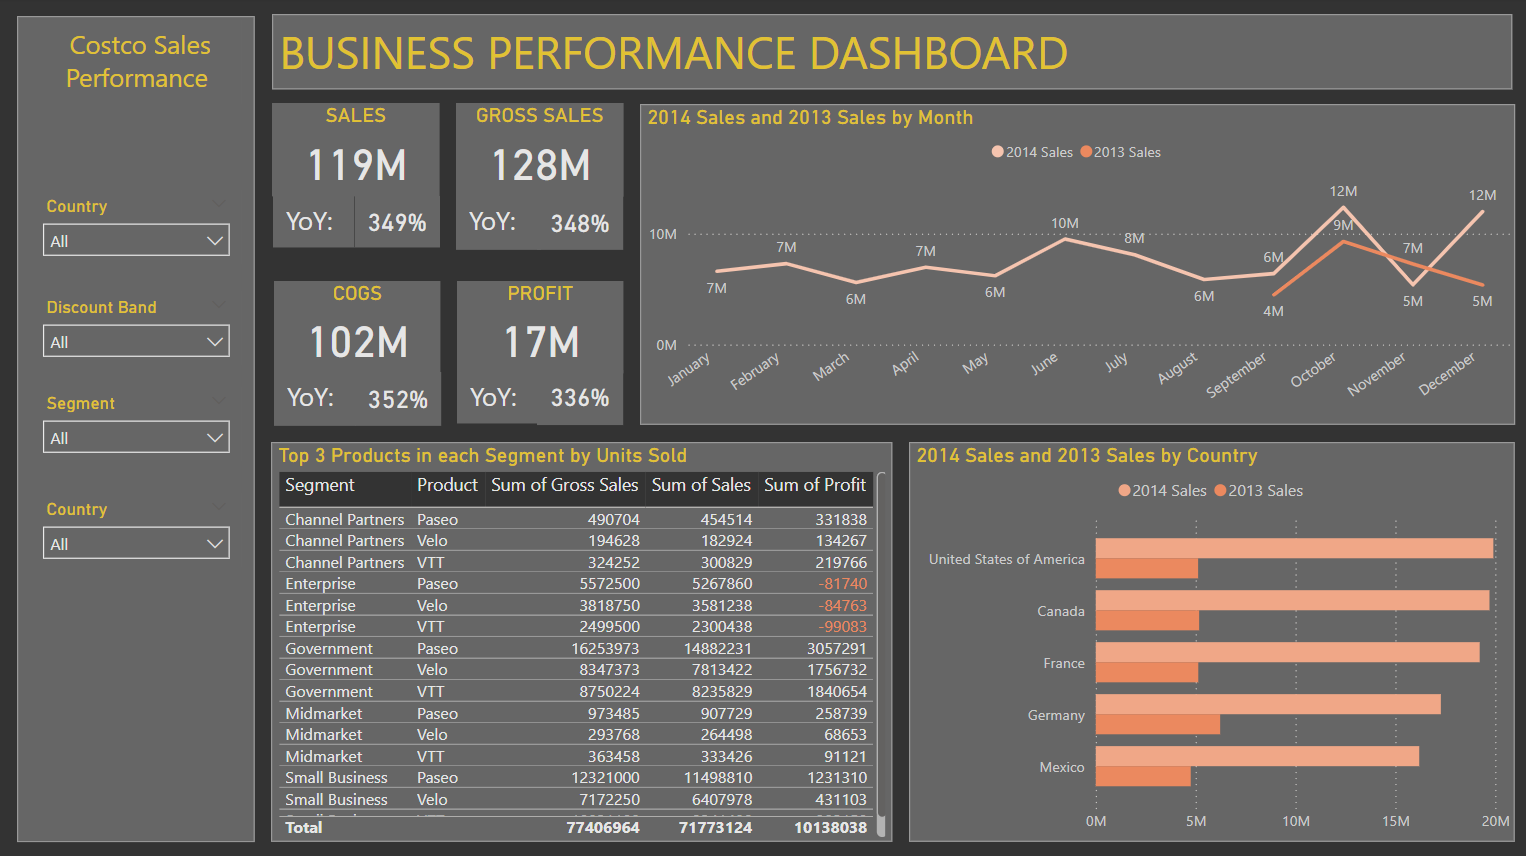

What the dashboard file says about the page in this screenshot:
{"tool":"powerbi","page":{"name":"Report","canvas":[1280,720],"ordinal":0},"visuals":[{"type":"shape","box":[16.1,14.9,198.6,690.2],"z":0},{"type":"textbox","box":[228.9,13.3,1035.9,62.6],"z":1000},{"type":"card","title":"GROSS SALES","fields":{"Values":["Sum(financials.Gross Sales)"]},"box":[382.9,87.8,140,78.2],"z":2000},{"type":"card","title":"COGS","fields":{"Values":["Sum(financials.COGS)"]},"box":[230.5,236.6,139.3,76.8],"z":3000},{"type":"card","title":"PROFIT","fields":{"Values":["Sum(financials.Profit)"]},"box":[383,236.6,139.3,76.8],"z":4000},{"type":"card","title":"SALES","fields":{"Values":["financials. Sales YoY%"]},"box":[297.8,165.7,70.8,43.2],"z":5000},{"type":"textbox","box":[229.3,165.7,68.4,43.2],"z":6000},{"type":"card","title":"SALES","fields":{"Values":["Sum(financials. Sales)"]},"box":[229.2,87.8,140,78.2],"z":7000},{"type":"card","title":"SALES","fields":{"Values":["financials.Gross Sales YoY%"]},"box":[450.6,165.1,72,44.7],"z":8000},{"type":"textbox","box":[382.3,165.1,70.8,44.7],"z":9000},{"type":"card","title":"SALES","fields":{"Values":["financials.COGS YoY%"]},"box":[297.9,312.8,72,44.7],"z":10000},{"type":"textbox","box":[230.9,312.8,68.3,44.7],"z":11000},{"type":"card","title":"SALES","fields":{"Values":["financials.Profit YoY%"]},"box":[450.6,310.3,72,45.9],"z":12000},{"type":"textbox","box":[383.6,312.8,69.5,43.5],"z":13000},{"type":"lineChart","fields":{"Category":["financials.Date.Variation.Date Hierarchy.Month"],"Y":["financials.2014 Sales","financials.2013 Sales"]},"box":[536.2,88.1,731.1,268.1],"z":14000},{"type":"tableEx","title":"Top 3 Products in each Segment by Units Sold","fields":{"Values":["financials.Segment","financials.Product","Sum(financials.Gross Sales)","Sum(financials. Sales)","Sum(financials.Profit)"]},"box":[228.4,370.7,519,333.6],"z":15000},{"type":"clusteredBarChart","fields":{"Category":["financials.Country"],"Y":["financials.2014 Sales","financials.2013 Sales"]},"box":[760.7,370.7,505.7,333.6],"z":16000},{"type":"slicer","fields":{"Values":["financials.Country"]},"box":[27.3,160.1,176.3,62.1],"z":17000},{"type":"slicer","fields":{"Values":["financials.Discount Band"]},"box":[27.3,244.5,176.3,62.1],"z":18000},{"type":"slicer","fields":{"Values":["financials.Segment"]},"box":[27.3,325.2,176.3,62.1],"z":19000},{"type":"slicer","fields":{"Values":["financials.Country"]},"box":[27.3,413.4,176.3,62.1],"z":20000},{"type":"textbox","box":[27.3,18.6,176.3,69.5],"z":21000}]}

Visuals, with their boxes in screenshot pixels (x1, y1, x2, y2), scaled from the page's 1280x720 canvas onto the 1526x856 screenshot:
shape: select_region(19, 18, 256, 838)
textbox: select_region(273, 16, 1508, 90)
"GROSS SALES" card: select_region(456, 104, 623, 197)
"COGS" card: select_region(275, 281, 441, 373)
"PROFIT" card: select_region(457, 281, 623, 373)
"SALES" card: select_region(355, 197, 439, 248)
textbox: select_region(273, 197, 355, 248)
"SALES" card: select_region(273, 104, 440, 197)
"SALES" card: select_region(537, 196, 623, 249)
textbox: select_region(456, 196, 540, 249)
"SALES" card: select_region(355, 372, 441, 425)
textbox: select_region(275, 372, 357, 425)
"SALES" card: select_region(537, 369, 623, 423)
textbox: select_region(457, 372, 540, 424)
lineChart - financials.Date.Variation.Date Hierarchy.Month x financials.2014 Sales: select_region(639, 105, 1511, 423)
"Top 3 Products in each Segment by Units Sold" tableEx: select_region(272, 441, 891, 837)
clusteredBarChart - financials.Country x financials.2014 Sales: select_region(907, 441, 1510, 837)
slicer - financials.Country: select_region(33, 190, 243, 264)
slicer - financials.Discount Band: select_region(33, 291, 243, 365)
slicer - financials.Segment: select_region(33, 387, 243, 460)
slicer - financials.Country: select_region(33, 491, 243, 565)
textbox: select_region(33, 22, 243, 105)
